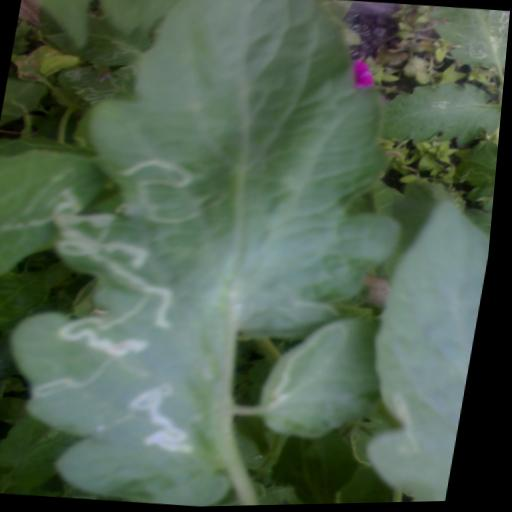Leaf_Miner: (0, 0, 438, 511)
